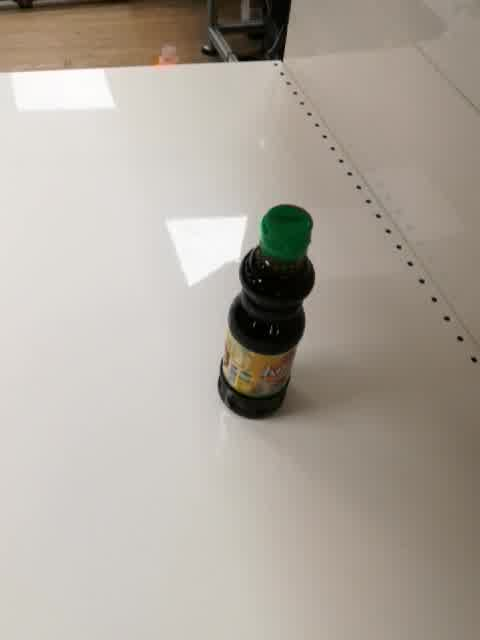cookingoil: (216, 202, 318, 422)
